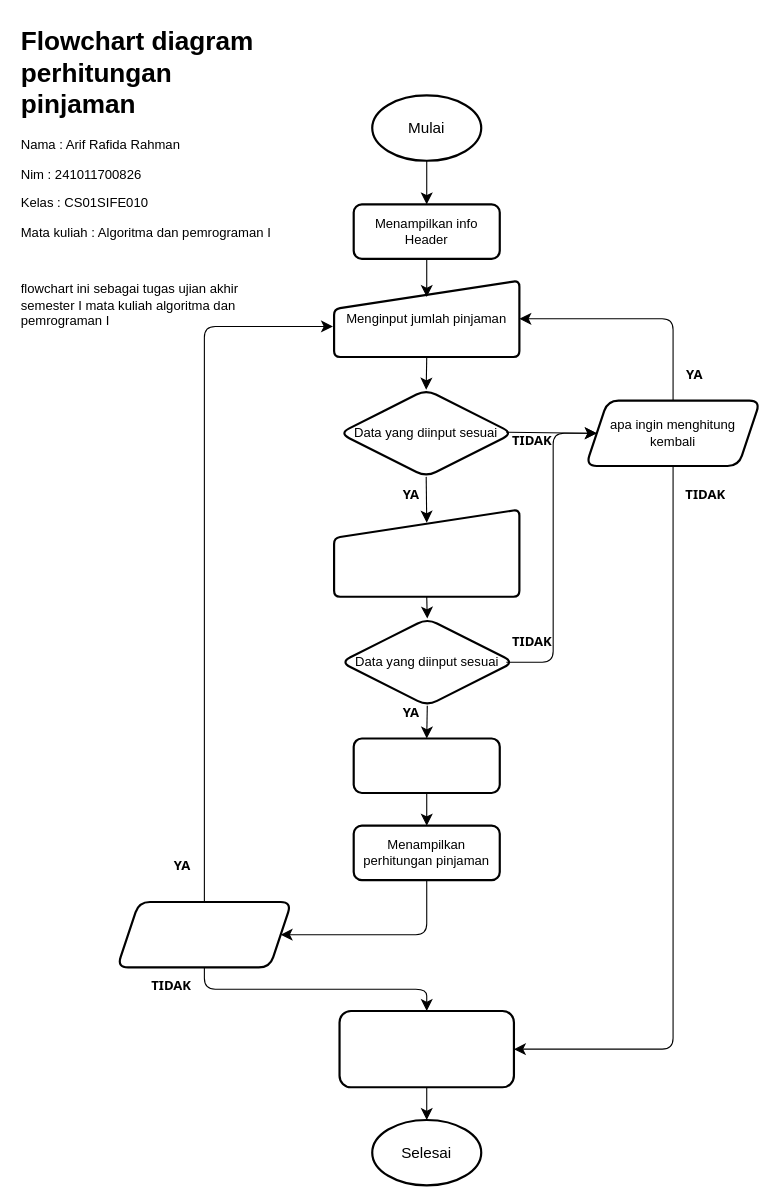
Image size: 779x1204. Some labels were removed from this diagram. The shapes that lost their labels are listed below. From the top down, each one's box as (x1, y1, x2, y2) in pixels, then its label:
(332, 508, 520, 597): Menginput jangka waktu pinjaman
(352, 737, 500, 794): Menyimpan data peminjaman ke riwayat
(116, 900, 292, 968): Apa ingin menambah perhitungan pinjaman
(338, 1009, 514, 1088): Menampilkan data riwayat peminjaman dan menampilkan pesan selesai
